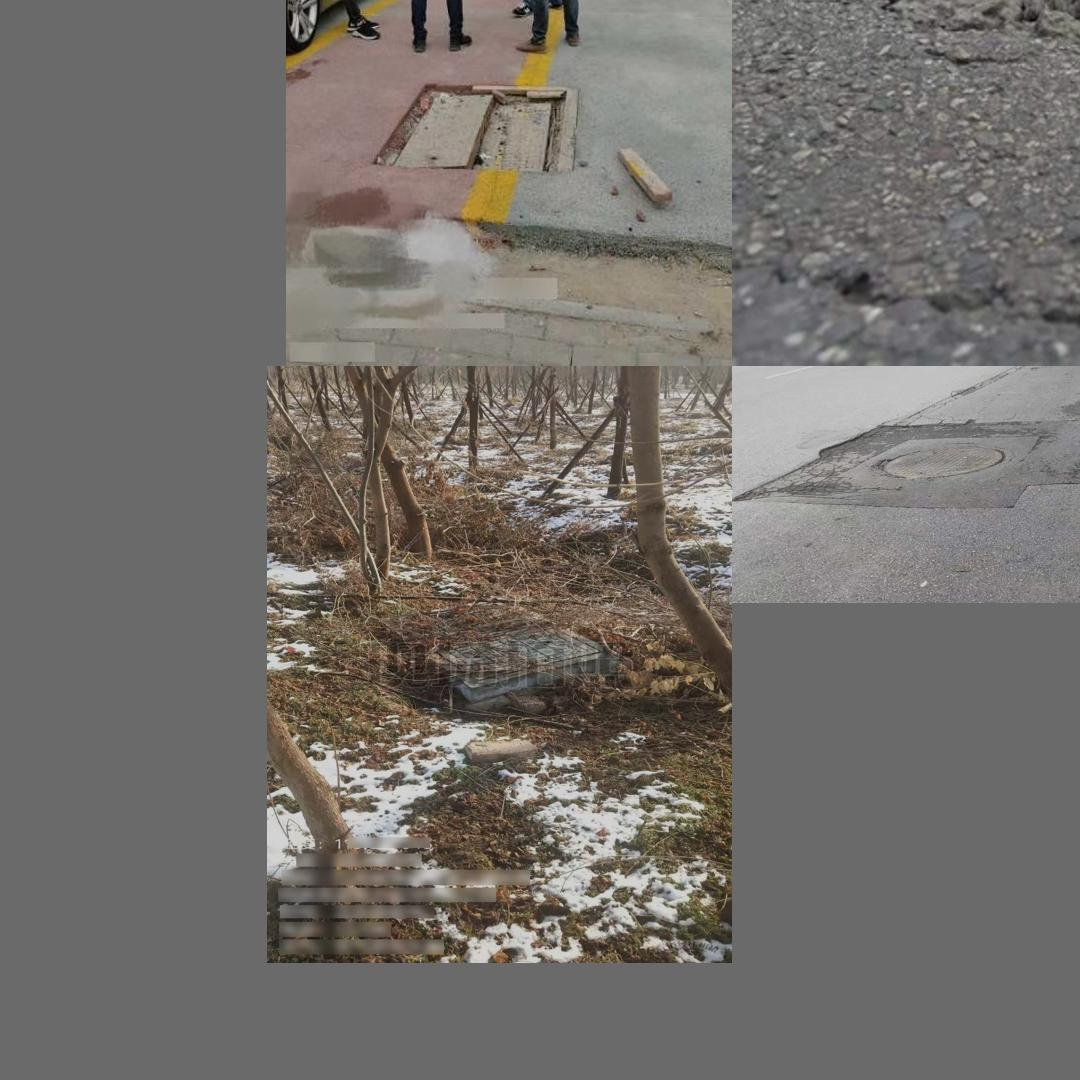circle: (762, 0, 1080, 142), (381, 596, 622, 706), (790, 429, 1080, 505), (381, 85, 577, 176)
